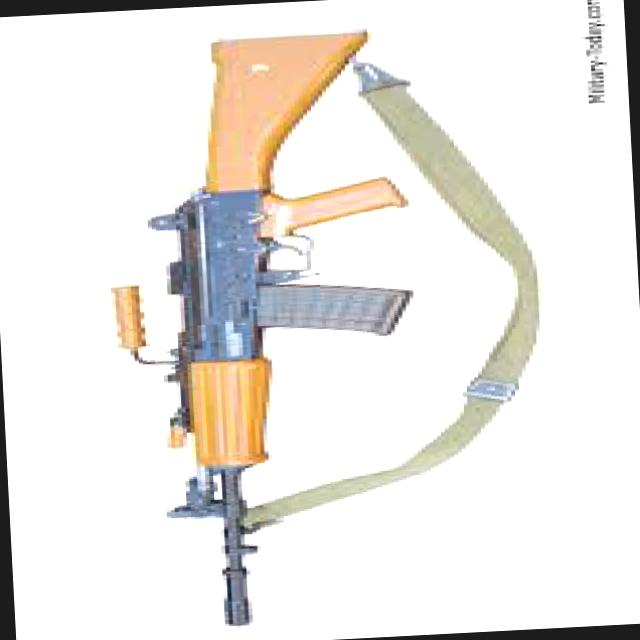long weapon: (145, 19, 421, 638)
